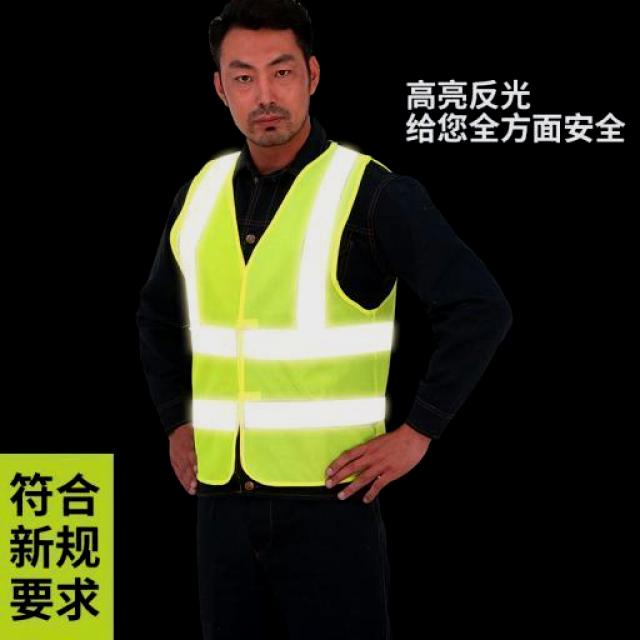face_nomask: (224, 52, 305, 138)
hand_noglove: (324, 420, 410, 510), (162, 418, 212, 497)
head_nohelmet: (203, 0, 321, 50)
person: (127, 0, 508, 640)
vest: (169, 130, 405, 502)
